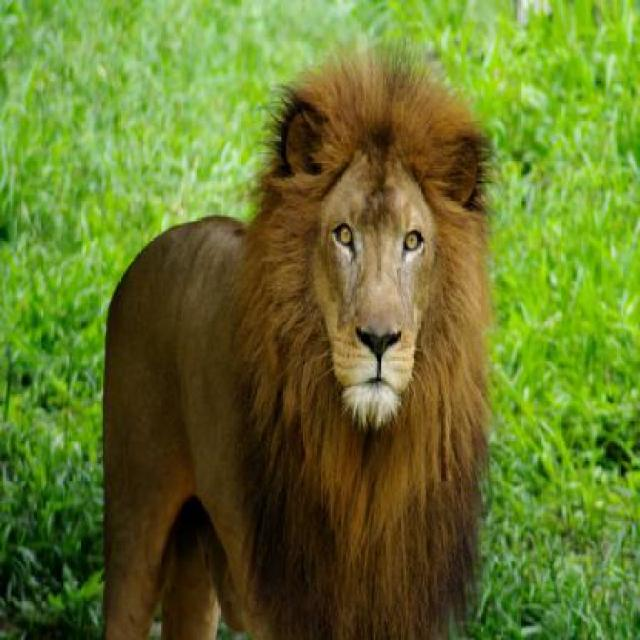Lion: (69, 29, 526, 638)
